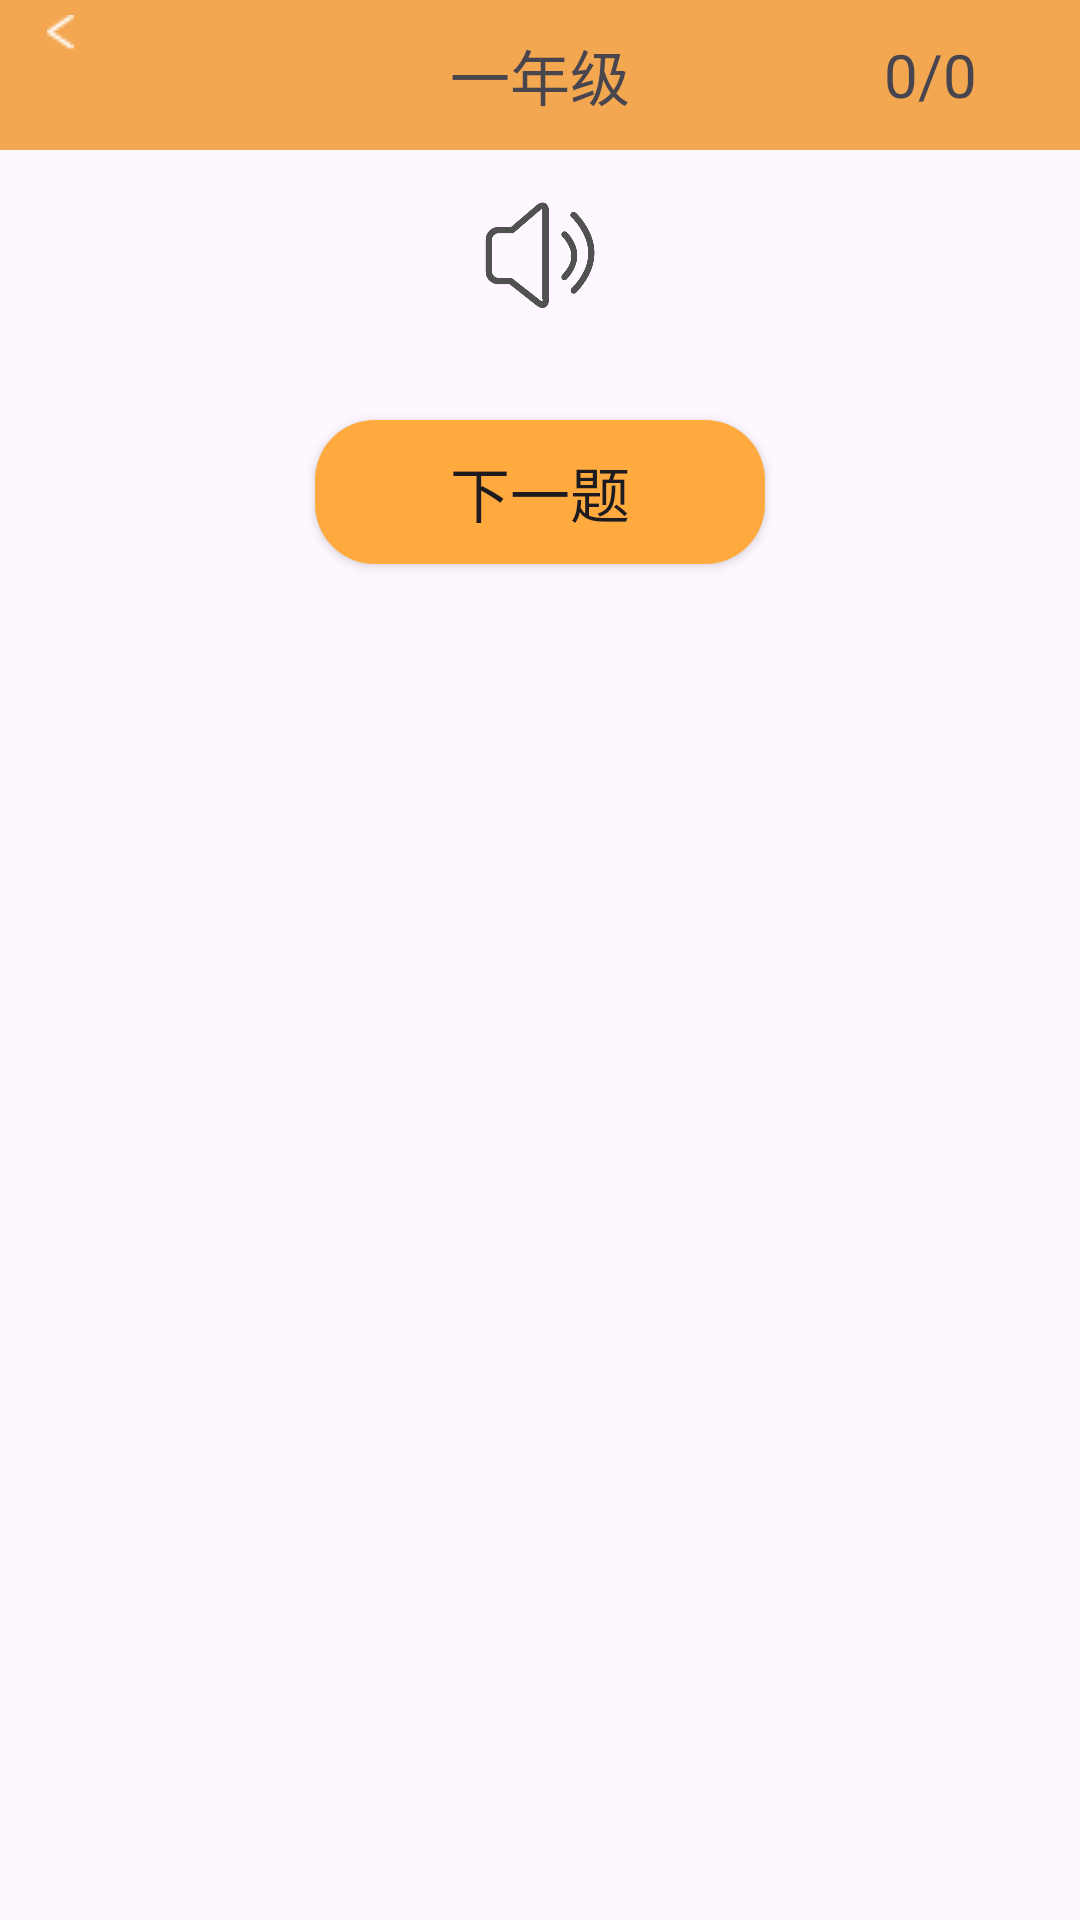

Named icons in this screenshot (1080×1920) and their bounding boxes, box=[x1, y1, x2, y2]:
back: box=[47, 15, 74, 49]
